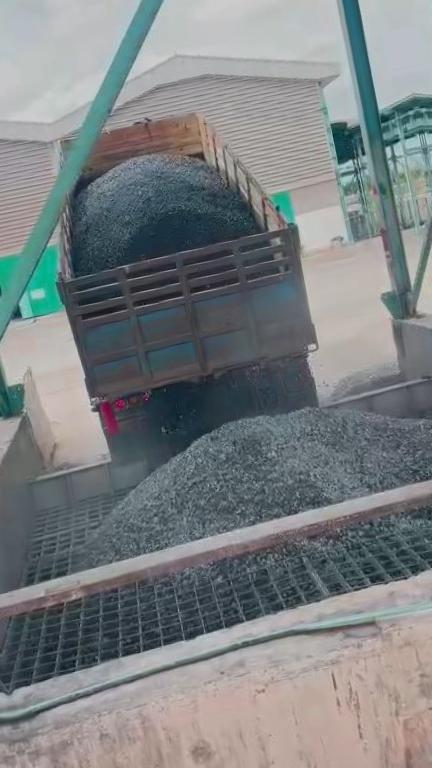gravel: (88, 408, 432, 565), (174, 493, 432, 586), (72, 153, 257, 273), (328, 360, 404, 402)
